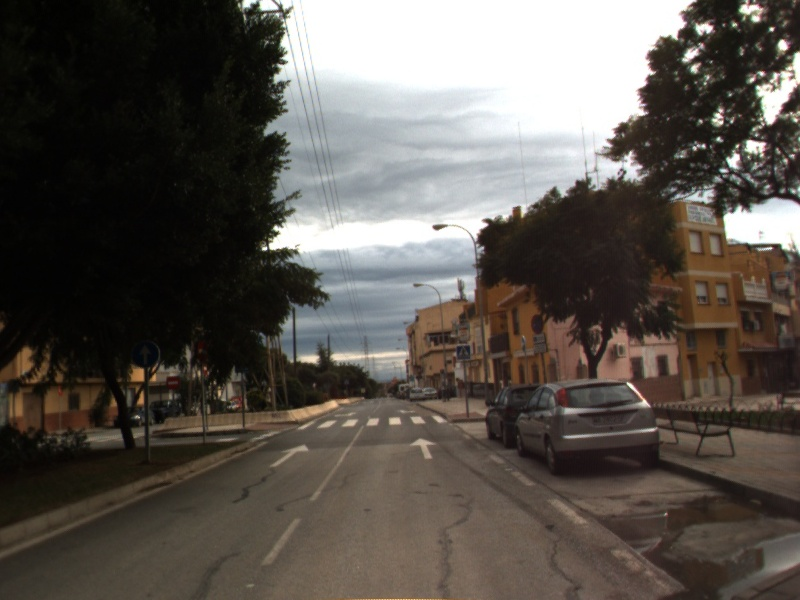STRAIGHT: (268, 442, 311, 469), (408, 436, 440, 461)
